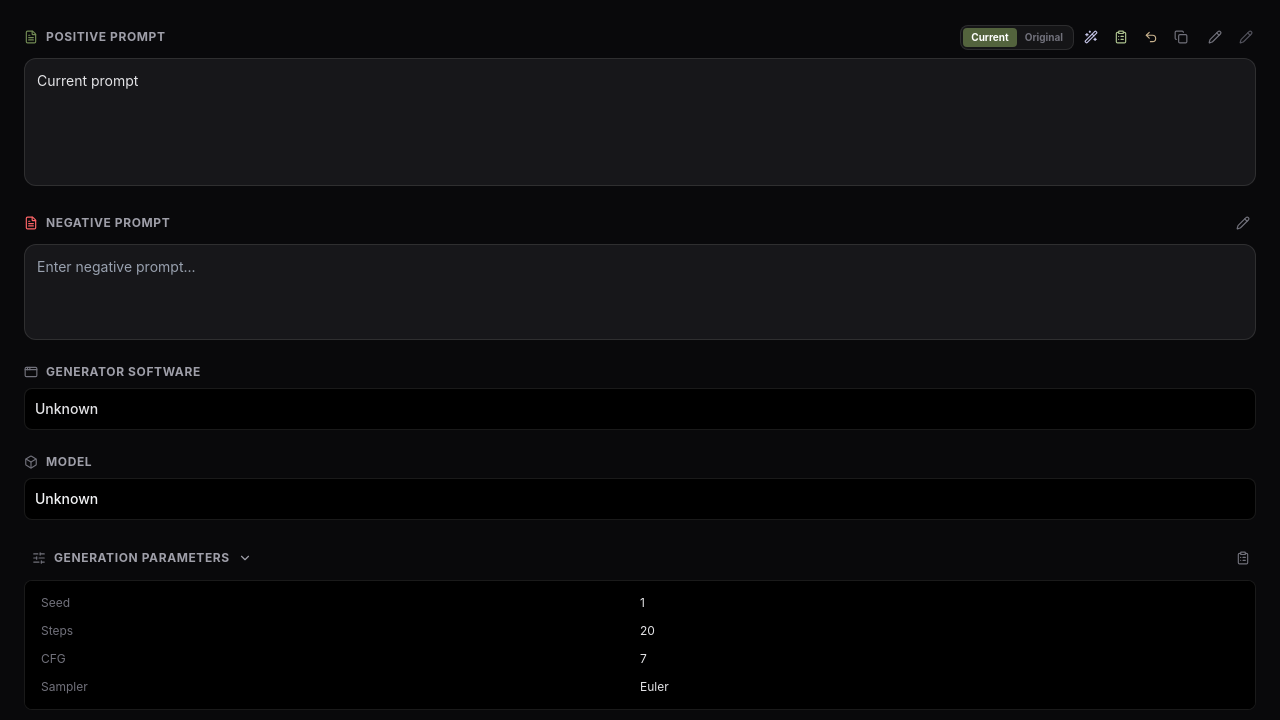
it: MetadataInfoTab › shows a read-only original prompt without mutating the editable draft
The image size is (1280, 720).
Click the button "Original" at (1044, 37), box [1017,28,1071,46]
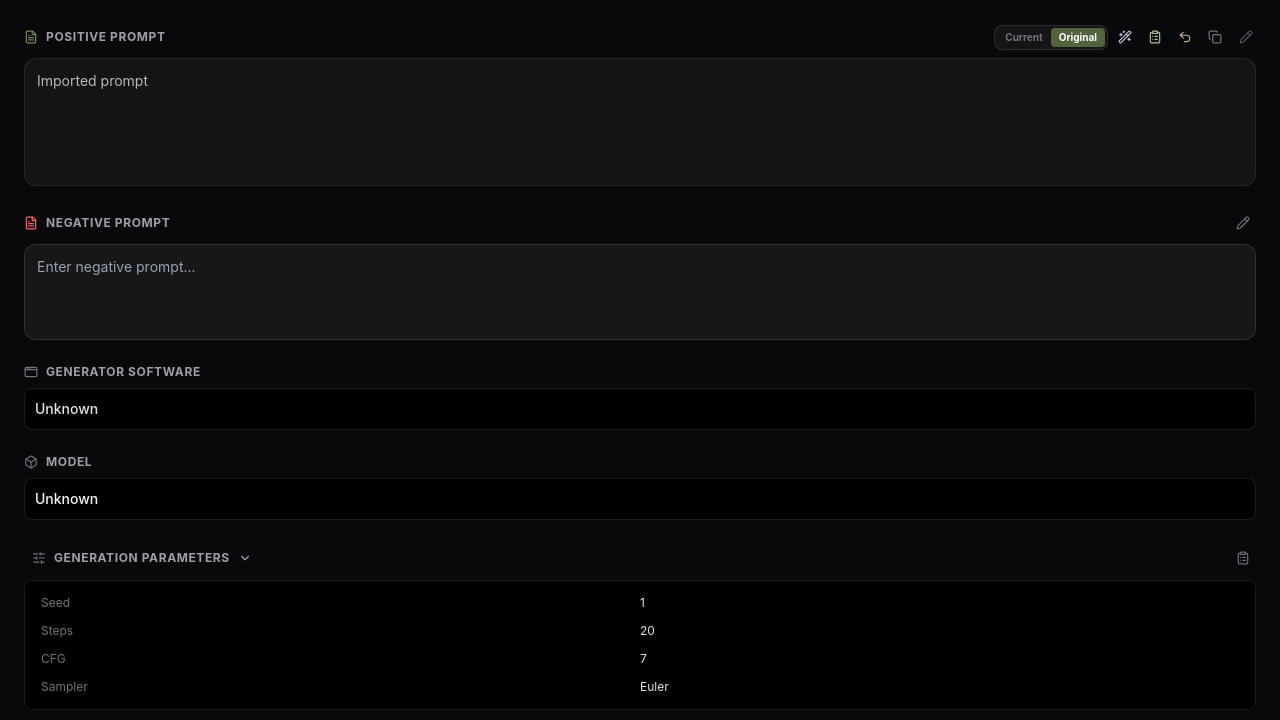
Check: the field named "Positive prompt" reads "Imported prompt", box [37,72,148,89]
